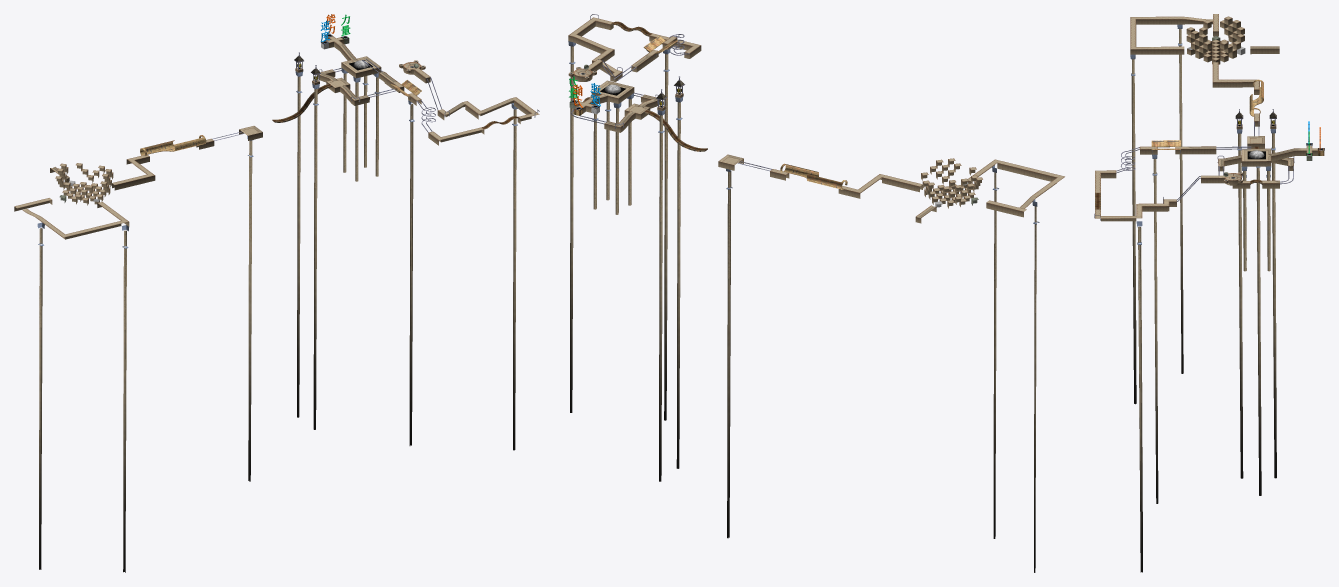
The model's file is MenuLevel.FBX.
The picture shows the model from 3 angles, left to right: view 1: azimuth 30°, elevation 25°; view 2: azimuth 150°, elevation 25°; view 3: azimuth 270°, elevation 25°; orthographic projection. The views are drawn at different scales.
Visible parts, largest first — view 1: I_Floor_Columns_Bottom, I_Floor_Columns, I_Floor_01, I_Floor_02; view 2: I_Floor_Columns_Bottom, I_Floor_Columns, I_Floor_02, I_Floor_01; view 3: I_Floor_Columns_Bottom, I_Floor_02, I_Floor_01, I_Floor_Columns.
Boxes of the visible parts, <box> form: I_Floor_Columns_Bottom: <box>39,175,516,572</box>; I_Floor_Columns: <box>37,68,517,330</box>; I_Floor_01: <box>317,36,539,145</box>; I_Floor_02: <box>14,126,262,239</box>; I_Floor_Columns_Bottom: <box>570,153,1036,572</box>; I_Floor_Columns: <box>568,41,1039,312</box>; I_Floor_02: <box>718,154,1064,223</box>; I_Floor_01: <box>568,17,701,132</box>; I_Floor_Columns_Bottom: <box>1132,129,1276,572</box>; I_Floor_02: <box>1130,14,1279,148</box>; I_Floor_01: <box>1095,145,1324,221</box>; I_Floor_Columns: <box>1130,24,1275,327</box>.
Bounding box in the file's own units: 460 × 397 × 195.
Materials: 45 (37 with a texture image).
